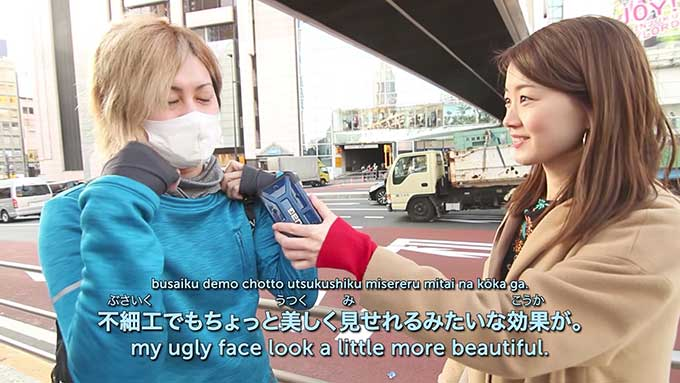with_mask: (142, 76, 219, 153)
without_mask: (503, 82, 558, 163)
